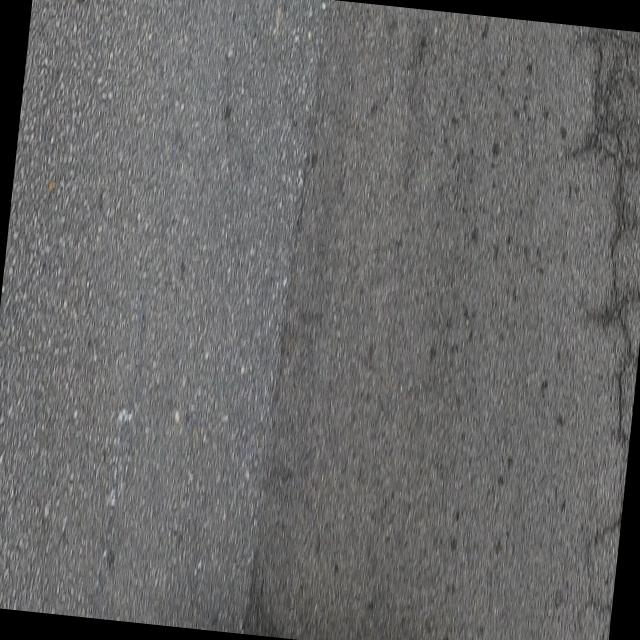Retak-Buaya: (582, 27, 640, 617)
